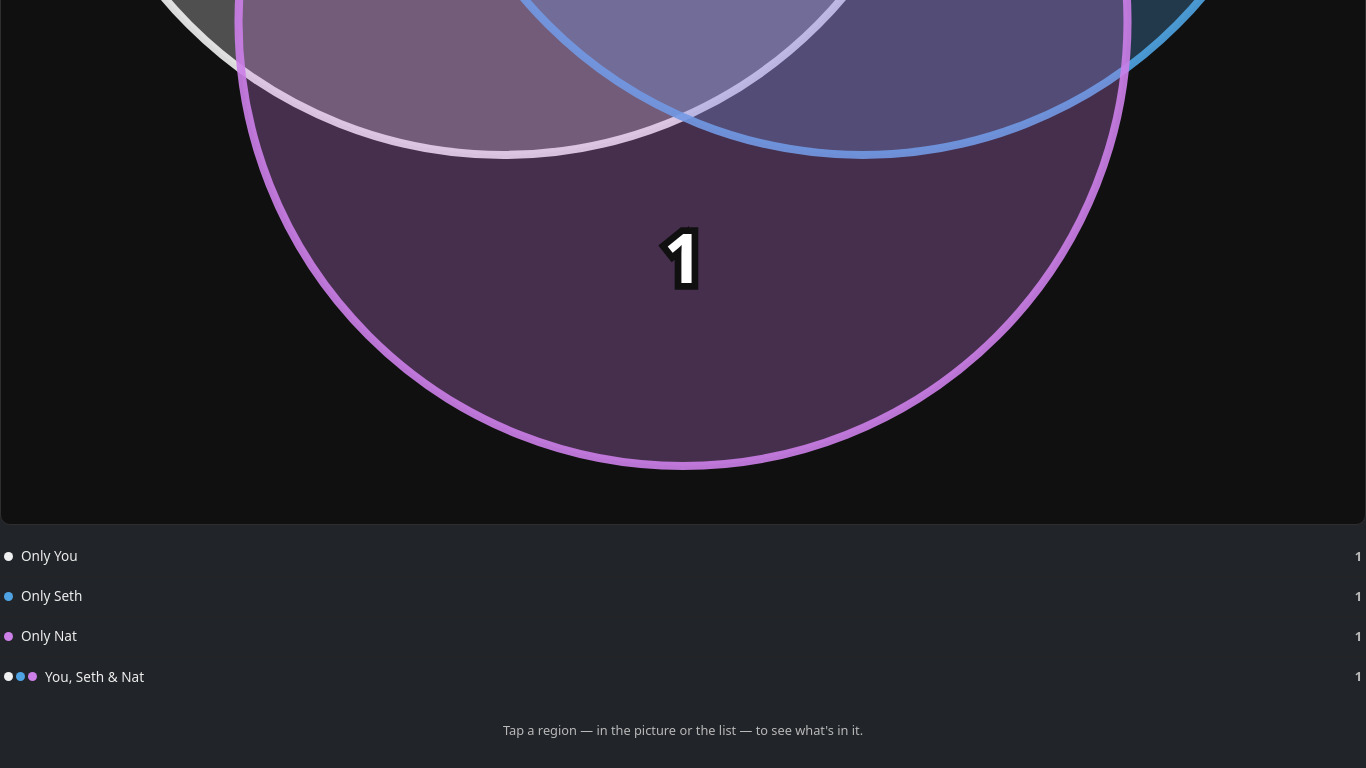
Test case: ClubVenn (a section of Club Charts, fed by the page picker) › lists only occupied regions and opens one from the legend
This screenshot has width=1366, height=768.
(page scrolled)
Click the button with class "cv-legend-row" showing "You, Seth & Nat 1": (95, 676) [0,657,1365,697]
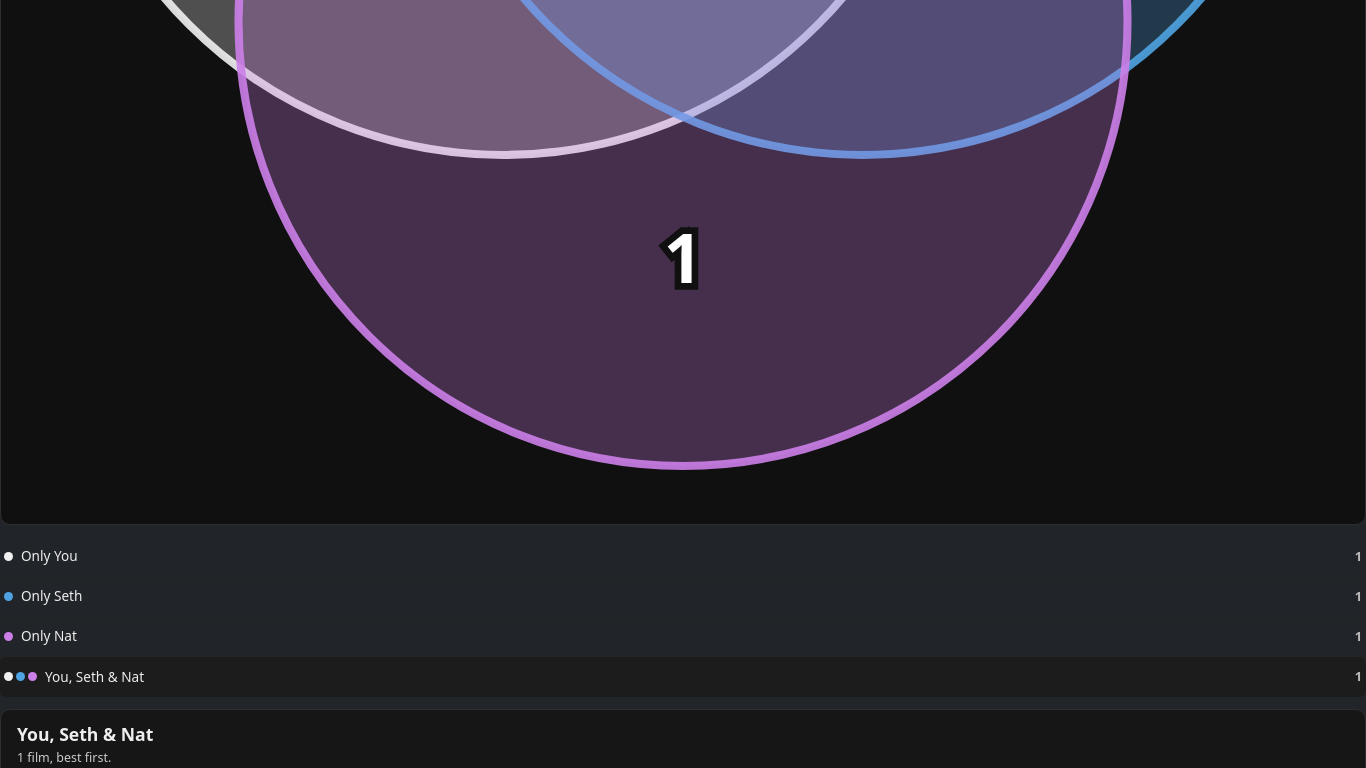
Expected: the heading with class "cv-section-title" reads "You, Seth & Nat", [17,722,153,746]
